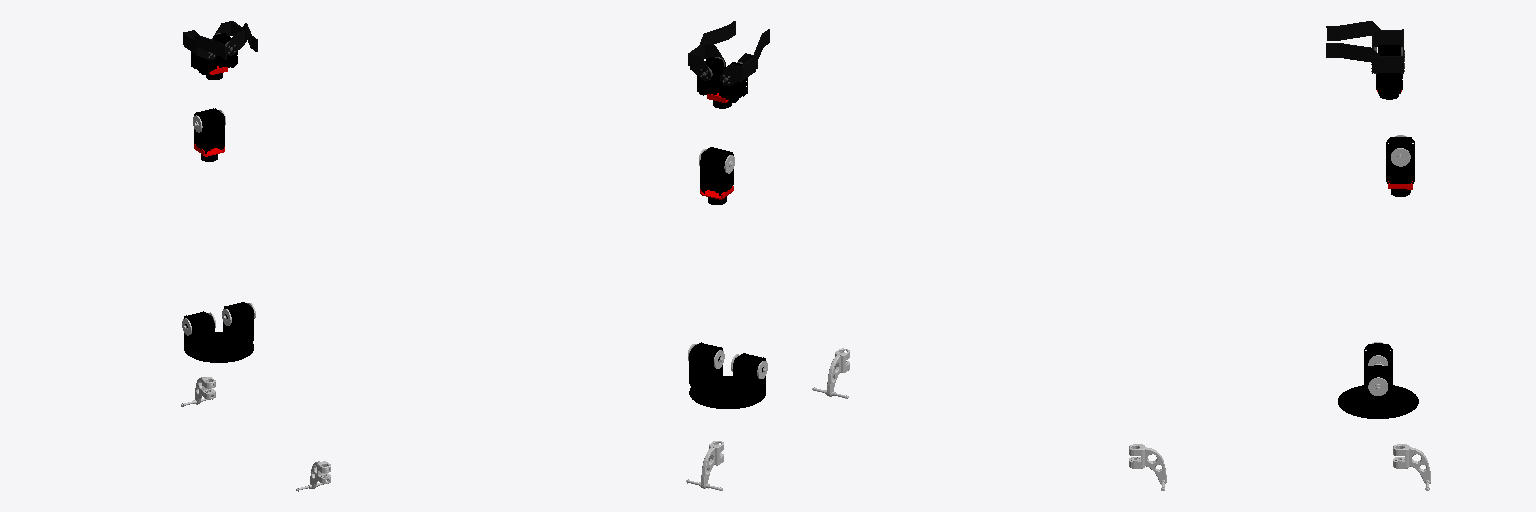
URDF robot description (armstrong):
<?xml version="1.0" encoding="utf-8"?>
<!-- =================================================================================== -->
<!-- |    This document was autogenerated by xacro from armstrong.urdf.xacro           | -->
<!-- |    EDITING THIS FILE BY HAND IS NOT RECOMMENDED                                 | -->
<!-- =================================================================================== -->
<robot name="armstrong">
  <!-- ================ CONSTANTS ================ -->
  <!-- ================ MACROS ================ -->
  <!-- ================ GAZEBO SETTINGS  ================ -->
  <!-- Support for multiple controllers -->
  <gazebo>
    <plugin filename="libgazebo_ros_control.so" name="gazebo_ros_control">
      <robotNamespace>/</robotNamespace>
    </plugin>
  </gazebo>
  <gazebo reference="base_link">
    <turnGravityOff>false</turnGravityOff>
  </gazebo>
  <gazebo reference="frame">
    <turnGravityOff>false</turnGravityOff>
    <selfCollide>0</selfCollide>
  </gazebo>
  <gazebo reference="l_wheel">
    <selfCollide>false</selfCollide>
    <mu1 value="0.5"/> <!-- 0.5 -->
    <mu2 value="0.5"/> <!-- 0.5 -->
    <kp value="10000000"/>
    <kd value="1"/>
    <fdir1 value="1 0 0"/>
    <turnGravityOff>false</turnGravityOff>
    <selfCollide>0</selfCollide>
  </gazebo>
  <gazebo reference="r_wheel">
    <selfCollide>false</selfCollide>
    <mu1 value="0.5"/> <!-- 0.5 -->
    <mu2 value="0.5"/> <!-- 0.5 -->
    <kp value="10000000"/>
    <kd value="1"/>
    <fdir1 value="1 0 0"/>
    <turnGravityOff>false</turnGravityOff>
    <selfCollide>0</selfCollide>
  </gazebo>
  <gazebo reference="f_caster_arm">
    <turnGravityOff>false</turnGravityOff>
    <selfCollide>0</selfCollide>
    <implicitSpringDamper>True</implicitSpringDamper>
  </gazebo>
  <gazebo reference="r_caster_wheel">
    <turnGravityOff>false</turnGravityOff>
    <selfCollide>0</selfCollide>
    <implicitSpringDamper>True</implicitSpringDamper>
     --&gt;
  
  </gazebo>
  <gazebo reference="b_caster_wheel">
    <turnGravityOff>false</turnGravityOff>
    <selfCollide>0</selfCollide>
    <implicitSpringDamper>True</implicitSpringDamper>
     --&gt;
  
  </gazebo>
  <gazebo reference="b_caster_arm">
    <turnGravityOff>false</turnGravityOff>
    <selfCollide>0</selfCollide>
    <implicitSpringDamper>True</implicitSpringDamper>
     --&gt;
  
  </gazebo>
  <gazebo reference="link_1">
    <turnGravityOff>false</turnGravityOff>
    <selfCollide>False</selfCollide>
    <implicitSpringDamper>True</implicitSpringDamper>
  </gazebo>
  <gazebo reference="link_2">
    <turnGravityOff>false</turnGravityOff>
    <selfCollide>False</selfCollide>
    <implicitSpringDamper>True</implicitSpringDamper>
  </gazebo>
  <gazebo reference="link_3">
    <turnGravityOff>false</turnGravityOff>
    <selfCollide>False</selfCollide>
    <implicitSpringDamper>True</implicitSpringDamper>
  </gazebo>
  <gazebo reference="link_4">
    <turnGravityOff>false</turnGravityOff>
    <selfCollide>False</selfCollide>
    <implicitSpringDamper>True</implicitSpringDamper>
  </gazebo>
  <gazebo reference="link_5">
    <turnGravityOff>false</turnGravityOff>
    <selfCollide>False</selfCollide>
    <implicitSpringDamper>True</implicitSpringDamper>
  </gazebo>
  <gazebo reference="link_6">
    <turnGravityOff>false</turnGravityOff>
    <selfCollide>False</selfCollide>
    <implicitSpringDamper>True</implicitSpringDamper>
  </gazebo>
  <gazebo reference="r_finger">
    <turnGravityOff>false</turnGravityOff>
    <selfCollide>False</selfCollide>
    <implicitSpringDamper>True</implicitSpringDamper>
  </gazebo>
  <!-- ================ BASE LINK - DUMMY ================ -->
  <link name="base_link"/>
  <!-- ================ FRAME LINK ================ -->
  <link name="frame">
    <visual>
      <geometry>
        <mesh filename="package://armstrong_description/meshes/frame.dae"/>
      </geometry>
    </visual>
    <collision>
      <origin rpy="0 0 0" xyz="0 0 0"/>
      <geometry>
        <mesh filename="package://armstrong_description/meshes/frame.dae"/>
      </geometry>
    </collision>
    <inertial>
      <origin rpy="0 0 0" xyz="0 0 0"/>
      <mass value="9.748"/>
      <inertia ixx="0.0001" ixy="0.000" ixz="0.000" iyy="0.0001" iyz="0.000" izz="0.0001"/>
    </inertial>
  </link>
  <!-- ================ LEFT WHEEL LINK ================ -->
  <link name="l_wheel">
    <visual>
      <geometry>
        <mesh filename="package://armstrong_description/meshes/l_wheel.dae"/>
      </geometry>
    </visual>
    <collision>
      <origin rpy="0 1.570796 0" xyz="0 0 0"/>
      <geometry>
        <cylinder length="0.027844" radius="0.076875"/>
      </geometry>
    </collision>
    <inertial>
      <origin rpy="0 1.570796 0" xyz="0 0 0"/>
      <mass value="0.635"/>
      <inertia ixx="0.0001" ixy="0.000" ixz="0.000" iyy="0.0001" iyz="0.000" izz="0.0001"/>
    </inertial>
  </link>
  <!-- ================ RIGHT WHEEL LINK ================ -->
  <link name="r_wheel">
    <visual>
      <geometry>
        <mesh filename="package://armstrong_description/meshes/r_wheel.dae"/>
      </geometry>
    </visual>
    <collision>
      <origin rpy="0 1.570796 0" xyz="0 0 0"/>
      <geometry>
        <cylinder length="0.027844" radius="0.076875"/>
      </geometry>
    </collision>
    <inertial>
      <origin rpy="0 1.570796 0" xyz="0 0 0"/>
      <mass value="0.635"/>
      <inertia ixx="0.0001" ixy="0.000" ixz="0.000" iyy="0.0001" iyz="0.000" izz="0.0001"/>
    </inertial>
  </link>
  <!-- ================ FRONT CASTER ARM LINK ================ -->
  <link name="f_caster_arm">
    <visual>
      <geometry>
        <mesh filename="package://armstrong_description/meshes/caster_arm.dae"/>
      </geometry>
    </visual>
    <collision>
      <origin rpy="0 0 0" xyz="0 0 0"/>
      <geometry>
        <mesh filename="package://armstrong_description/meshes/caster_arm.dae"/>
      </geometry>
    </collision>
    <inertial>
      <origin rpy="0 0 0" xyz="0 0 0"/>
      <mass value="0.048"/>
      <inertia ixx="0.0001" ixy="0.000" ixz="0.000" iyy="0.0001" iyz="0.000" izz="0.0001"/>
    </inertial>
  </link>
  <!-- ================ FRONT CASTER WHEELS LINK ================ -->
  <link name="f_caster_wheels">
    <visual>
      <geometry>
        <mesh filename="package://armstrong_description/meshes/caster_wheels.dae"/>
      </geometry>
    </visual>
    <collision>
      <origin rpy="0 0 0" xyz="0 0 0"/>
      <geometry>
        <mesh filename="package://armstrong_description/meshes/caster_wheels.dae"/>
      </geometry>
    </collision>
    <inertial>
      <origin rpy="0 0 0" xyz="0 0 0"/>
      <mass value="0.1516"/>
      <inertia ixx="0.0001" ixy="0.000" ixz="0.000" iyy="0.0001" iyz="0.000" izz="0.0001"/>
    </inertial>
  </link>
  <!-- ================ BACK CASTER ARM LINK ================ -->
  <link name="b_caster_arm">
    <visual>
      <geometry>
        <mesh filename="package://armstrong_description/meshes/caster_arm.dae"/>
      </geometry>
    </visual>
    <collision>
      <origin rpy="0 0 0" xyz="0 0 0"/>
      <geometry>
        <mesh filename="package://armstrong_description/meshes/caster_arm.dae"/>
      </geometry>
    </collision>
    <inertial>
      <origin rpy="0 0 0" xyz="0 0 0"/>
      <mass value="0.048"/>
      <inertia ixx="0.0001" ixy="0.000" ixz="0.000" iyy="0.0001" iyz="0.000" izz="0.0001"/>
    </inertial>
  </link>
  <!-- ================ BACK CASTER WHEELS LINK ================ -->
  <link name="b_caster_wheels">
    <visual>
      <geometry>
        <mesh filename="package://armstrong_description/meshes/caster_wheels.dae"/>
      </geometry>
    </visual>
    <collision>
      <origin rpy="0 0 0" xyz="0 0 0"/>
      <geometry>
        <mesh filename="package://armstrong_description/meshes/caster_wheels.dae"/>
      </geometry>
    </collision>
    <inertial>
      <origin rpy="0 0 0" xyz="0 0 0"/>
      <mass value="0.1516"/>
      <inertia ixx="0.0001" ixy="0.000" ixz="0.000" iyy="0.0001" iyz="0.000" izz="0.0001"/>
    </inertial>
  </link>
  <!-- ================ LINK1 LINK ================ -->
  <link name="link_1">
    <visual>
      <geometry>
        <mesh filename="package://armstrong_description/meshes/link_1.dae"/>
      </geometry>
    </visual>
    <collision>
      <origin rpy="0 0 0" xyz="0 0 0"/>
      <geometry>
        <mesh filename="package://armstrong_description/meshes/link_1.dae"/>
      </geometry>
    </collision>
    <inertial>
      <origin rpy="0 0 0" xyz="0 0 0"/>
      <mass value="0.266262084814045"/>
      <inertia ixx="0.0001" ixy="0.000" ixz="0.000" iyy="0.0001" iyz="0.000" izz="0.0001"/>
    </inertial>
  </link>
  <!-- ================ LINK2 LINK ================ -->
  <link name="link_2">
    <visual>
      <geometry>
        <mesh filename="package://armstrong_description/meshes/link_2.dae"/>
      </geometry>
    </visual>
    <collision>
      <origin rpy="0 0 0" xyz="0 0 0"/>
      <geometry>
        <mesh filename="package://armstrong_description/meshes/link_2.dae"/>
      </geometry>
    </collision>
    <inertial>
      <origin rpy="0 0 0" xyz="0 0 0"/>
      <mass value="0.20557"/>
      <inertia ixx="0.0001" ixy="0.000" ixz="0.000" iyy="0.0001" iyz="0.000" izz="0.0001"/>
    </inertial>
  </link>
  <!-- ================ LINK3 LINK ================ -->
  <link name="link_3">
    <visual>
      <geometry>
        <mesh filename="package://armstrong_description/meshes/link_3.dae"/>
      </geometry>
    </visual>
    <collision>
      <origin rpy="0 0 0" xyz="0 0 0"/>
      <geometry>
        <mesh filename="package://armstrong_description/meshes/link_3.dae"/>
      </geometry>
    </collision>
    <inertial>
      <origin rpy="0 0 0" xyz="0 0 0"/>
      <mass value="0.145524"/>
      <inertia ixx="0.0001" ixy="0.000" ixz="0.000" iyy="0.0001" iyz="0.000" izz="0.0001"/>
    </inertial>
  </link>
  <!-- ================ LINK4 LINK ================ -->
  <link name="link_4">
    <visual>
      <geometry>
        <mesh filename="package://armstrong_description/meshes/link_4.dae"/>
      </geometry>
    </visual>
    <collision>
      <origin rpy="0 0 0" xyz="0 0 0"/>
      <geometry>
        <mesh filename="package://armstrong_description/meshes/link_4.dae"/>
      </geometry>
    </collision>
    <inertial>
      <origin rpy="0 0 0" xyz="0 0 0"/>
      <mass value="0.1"/>
      <inertia ixx="0.0001" ixy="0.000" ixz="0.000" iyy="0.0001" iyz="0.000" izz="0.0001"/>
    </inertial>
  </link>
  <!-- ================ LINK5 LINK ================ -->
  <link name="link_5">
    <visual>
      <geometry>
        <mesh filename="package://armstrong_description/meshes/link_5.dae"/>
      </geometry>
    </visual>
    <collision>
      <origin rpy="0 0 0" xyz="0 0 0"/>
      <geometry>
        <mesh filename="package://armstrong_description/meshes/link_5.dae"/>
      </geometry>
    </collision>
    <inertial>
      <origin rpy="0 0 0" xyz="0 0 0"/>
      <mass value="0.092731"/>
      <inertia ixx="0.0001" ixy="0.000" ixz="0.000" iyy="0.0001" iyz="0.000" izz="0.0001"/>
    </inertial>
  </link>
  <!-- ================ LINK6 LINK ================ -->
  <link name="link_6">
    <visual>
      <geometry>
        <mesh filename="package://armstrong_description/meshes/link_6.dae"/>
      </geometry>
    </visual>
    <collision>
      <origin rpy="0 0 0" xyz="0 0 0"/>
      <geometry>
        <mesh filename="package://armstrong_description/meshes/link_6.dae"/>
      </geometry>
    </collision>
    <inertial>
      <origin rpy="0 0 0" xyz="0 0 0"/>
      <mass value="0.12368"/>
      <inertia ixx="0.0001" ixy="0.000" ixz="0.000" iyy="0.0001" iyz="0.000" izz="0.0001"/>
    </inertial>
  </link>
  <!-- ================ R_FINGER LINK ================ -->
  <link name="r_finger">
    <visual>
      <geometry>
        <mesh filename="package://armstrong_description/meshes/r_finger.dae"/>
      </geometry>
    </visual>
    <collision>
      <origin rpy="0 0 0" xyz="0 0 0"/>
      <geometry>
        <mesh filename="package://armstrong_description/meshes/r_finger.dae"/>
      </geometry>
    </collision>
    <inertial>
      <origin rpy="0 0 0" xyz="0 0 0"/>
      <mass value="0.027053"/>
      <inertia ixx="0.0001" ixy="0.000" ixz="0.000" iyy="0.0001" iyz="0.000" izz="0.0001"/>
    </inertial>
  </link>
  <!-- ================ L_FINGER LINK ================ -->
  <link name="l_finger">
    <visual>
      <geometry>
        <mesh filename="package://armstrong_description/meshes/l_finger.dae"/>
      </geometry>
    </visual>
    <collision>
      <origin rpy="0 0 0" xyz="0 0 0"/>
      <geometry>
        <mesh filename="package://armstrong_description/meshes/l_finger.dae"/>
      </geometry>
    </collision>
    <inertial>
      <origin rpy="0 0 0" xyz="0 0 0"/>
      <mass value="0.027053"/>
      <inertia ixx="0.0001" ixy="0.000" ixz="0.000" iyy="0.0001" iyz="0.000" izz="0.0001"/>
    </inertial>
  </link>
  <!-- ================ END EFFECTOR SPHERE LINK ================ -->
  <link name="end_effector">
    <visual>
      <geometry>
        <sphere radius="0.0001"/>
      </geometry>
    </visual>
    <inertial>
      <origin rpy="0 0 0" xyz="0 0 0"/>
      <mass value="0"/>
      <inertia ixx="0.0001" ixy="0.000" ixz="0.000" iyy="0.0001" iyz="0.000" izz="0.0001"/>
    </inertial>
  </link>
  <!-- ================ FRAME JOINT ================ -->
  <joint name="joint_base_link" type="fixed">
    <parent link="base_link"/>
    <child link="frame"/>
    <origin rpy="0 0 0" xyz="0 0 0"/>
  </joint>
  <!-- ================ LEFT WHEEL JOINT ================ -->
  <joint name="joint_l_wheel" type="continuous">
    <parent link="frame"/>
    <child link="l_wheel"/>
    <origin rpy="0 0 -3.141593"  xyz="-0.18729 0 0"/>
    <axis xyz="1 0 0"/>
  </joint>
  <transmission name="l_wheel_trans">
    <type>transmission_interface/SimpleTransmission</type>
    <joint name="joint_l_wheel">
      <hardwareInterface>hardware_interface/VelocityJointInterface</hardwareInterface>
    </joint>
    <actuator name="right_wheel_actuator">
      <mechanicalReduction> 1 </mechanicalReduction>
      <hardwareInterface>VelocityJointInterface</hardwareInterface>
    </actuator>
  </transmission>
  <!-- ================ RIGHT WHEEL JOINT ================ -->
  <joint name="joint_r_wheel" type="continuous">
    <parent link="frame"/>
    <child link="r_wheel"/>
    <origin rpy="0 0 -3.141593"  xyz="0.18729 0 0"/>
    <axis xyz="1 0 0"/>
  </joint>
  <transmission name="r_wheel_trans">
    <type>transmission_interface/SimpleTransmission</type>
    <joint name="joint_r_wheel">
      <hardwareInterface>hardware_interface/VelocityJointInterface</hardwareInterface>
    </joint>
    <actuator name="right_wheel_actuator">
      <mechanicalReduction> 1 </mechanicalReduction>
      <hardwareInterface>VelocityJointInterface</hardwareInterface>
    </actuator>
  </transmission>
  <!-- ================ FRONT CASTER ARM JOINT ================ -->
  <joint name="joint_f_caster_arm" type="continuous">
    <parent link="frame"/>
    <child link="f_caster_arm"/>
    <origin xyz="0 -0.18518 0.0168" />
    <axis xyz="0 0 1"/>
  </joint>
  <!-- ================ FRONT CASTER WHEELS JOINT ================ -->
  <joint name="joint_f_caster_wheels" type="continuous">
    <parent link="f_caster_arm"/>
    <child link="f_caster_wheels"/>
    <origin xyz="0 0.0387 -0.0525" />
    <axis xyz="1 0 0"/>
  </joint>
  <!-- ================ BACK CASTER ARM JOINT ================ -->
  <joint name="joint_b_caster_arm" type="continuous">
    <parent link="frame"/>
    <child link="b_caster_arm"/>
    <origin xyz="0 0.18518 0.0168" />
    <axis xyz="0 0 1"/>
  </joint>
  <!-- ================ BACK CASTER WHEELS JOINT ================ -->
  <joint name="joint_b_caster_wheels" type="continuous">
    <parent link="b_caster_arm"/>
    <child link="b_caster_wheels"/>
    <origin xyz="0 0.0387 -0.0525" />
    <axis xyz="1 0 0"/>
  </joint>
  <!-- ================ LINK1 JOINT ================ -->
  <joint name="joint_1" type="revolute">
    <parent link="frame"/>
    <child link="link_1"/>
    <origin rpy="0 0 0" xyz="0 0.15508 0.076053"/>
    <axis xyz="0 0 1"/>
    <limit effort="24" lower="-1.5708" upper="1.5708" velocity="6.07"/>
  </joint>
  <transmission name="joint_1_transmission">
    <type>transmission_interface/SimpleTransmission</type>
    <joint name="joint_1">
      <hardwareInterface>hardware_interface/PositionJointInterface</hardwareInterface>
    </joint>
    <actuator name="joint_1_actuator">
      <hardwareInterface>hardware_interface/PositionJointInterface</hardwareInterface>
      <mechanicalReduction>1</mechanicalReduction>
    </actuator>
  </transmission>
  <!-- ================ LINK2 JOINT ================ -->
  <joint name="joint_2" type="revolute">
    <parent link="link_1"/>
    <child link="link_2"/>
    <origin rpy="0 0 0" xyz="0 0 0.058757"/>
    <axis xyz="1 0 0"/>
    <limit effort="48" lower="-1.91288086" upper="1.91288086" velocity="6.07"/>
  </joint>
  <transmission name="joint_2_transmission">
    <type>transmission_interface/SimpleTransmission</type>
    <joint name="joint_2">
      <hardwareInterface>hardware_interface/PositionJointInterface</hardwareInterface>
    </joint>
    <actuator name="joint_2_actuator">
      <hardwareInterface>hardware_interface/PositionJointInterface</hardwareInterface>
      <mechanicalReduction>1</mechanicalReduction>
    </actuator>
  </transmission>
  <!-- ================ LINK3 JOINT ================ -->
  <joint name="joint_3" type="revolute">
    <parent link="link_2"/>
    <child link="link_3"/>
    <origin rpy="0 0 0" xyz="0 0.031055 0.189"/>
    <axis xyz="1 0 0"/>
    <limit effort="24" lower="-2.7227136" upper="2.7227136" velocity="6.07"/>
  </joint>
  <transmission name="joint_3_transmission">
    <type>transmission_interface/SimpleTransmission</type>
    <joint name="joint_3">
      <hardwareInterface>hardware_interface/PositionJointInterface</hardwareInterface>
    </joint>
    <actuator name="joint_3_actuator">
      <hardwareInterface>hardware_interface/PositionJointInterface</hardwareInterface>
      <mechanicalReduction>1</mechanicalReduction>
    </actuator>
  </transmission>
  <!-- ================ LINK4 JOINT ================ -->
  <joint name="joint_4" type="revolute">
    <parent link="link_3"/>
    <child link="link_4"/>
    <origin rpy="0 0 0" xyz="0 0 0.0855"/>
    <axis xyz="0 0 1"/>
    <limit effort="24" lower="-3.14159265" upper="3.14159265" velocity="6.07"/>
  </joint>
  <transmission name="joint_4_transmission">
    <type>transmission_interface/SimpleTransmission</type>
    <joint name="joint_4">
      <hardwareInterface>hardware_interface/PositionJointInterface</hardwareInterface>
    </joint>
    <actuator name="joint_4_actuator">
      <hardwareInterface>hardware_interface/PositionJointInterface</hardwareInterface>
      <mechanicalReduction>1</mechanicalReduction>
    </actuator>
  </transmission>
  <!-- ================ LINK5 JOINT ================ -->
  <joint name="joint_5" type="revolute">
    <parent link="link_4"/>
    <child link="link_5"/>
    <origin rpy="0 0 0" xyz="0 0 0.066188"/>
    <axis xyz="1 0 0"/>
    <limit effort="24" lower="-1.91288086" upper="1.91288086" velocity="6.07"/>
  </joint>
  <transmission name="joint_5_transmission">
    <type>transmission_interface/SimpleTransmission</type>
    <joint name="joint_5">
      <hardwareInterface>hardware_interface/PositionJointInterface</hardwareInterface>
    </joint>
    <actuator name="joint_5_actuator">
      <hardwareInterface>hardware_interface/PositionJointInterface</hardwareInterface>
      <mechanicalReduction>1</mechanicalReduction>
    </actuator>
  </transmission>
  <!-- ================ LINK6 JOINT ================ -->
  <joint name="joint_6" type="revolute">
    <parent link="link_5"/>
    <child link="link_6"/>
    <origin rpy="0 0 0" xyz="0 -0.016024 0.08458"/>
    <axis xyz="0 0 1"/>
    <limit effort="10" lower="-2.617993878" upper="2.617993878" velocity="6.07"/>
  </joint>
  <transmission name="joint_6_transmission">
    <type>transmission_interface/SimpleTransmission</type>
    <joint name="joint_6">
      <hardwareInterface>hardware_interface/PositionJointInterface</hardwareInterface>
    </joint>
    <actuator name="joint_6_actuator">
      <hardwareInterface>hardware_interface/PositionJointInterface</hardwareInterface>
      <mechanicalReduction>1</mechanicalReduction>
    </actuator>
  </transmission>
  <!-- ================ R_FINGER JOINT ================ -->
  <joint name="joint_r_finger" type="revolute">
    <parent link="link_6"/>
    <child link="r_finger"/>
    <origin rpy="0 0 0" xyz="0.01853 -0.000527 0.05403"/>
    <axis xyz="0 1 0"/>
    <limit effort="10" lower="-0.40" upper="0" velocity="6.07"/>
  </joint>
  <transmission name="joint_r_finger_transmission">
    <type>transmission_interface/SimpleTransmission</type>
    <joint name="joint_r_finger">
      <hardwareInterface>hardware_interface/PositionJointInterface</hardwareInterface>
    </joint>
    <actuator name="joint_r_finger_actuator">
      <hardwareInterface>hardware_interface/PositionJointInterface</hardwareInterface>
      <mechanicalReduction>1</mechanicalReduction>
    </actuator>
  </transmission>
  <!-- ================ L_FINGER JOINT ================ -->
  <joint name="joint_l_finger" type="revolute">
    <parent link="link_6"/>
    <child link="l_finger"/>
    <origin rpy="0 0 0" xyz="-0.01853 -0.000527 0.05403"/>
    <axis xyz="0 1 0"/>
    <limit effort="10" lower="0" upper="0.40" velocity="6.07"/>
  </joint>
  <transmission name="joint_l_finger_transmission">
    <type>transmission_interface/SimpleTransmission</type>
    <joint name="joint_l_finger">
      <hardwareInterface>hardware_interface/PositionJointInterface</hardwareInterface>
    </joint>
    <actuator name="joint_l_finger_actuator">
      <hardwareInterface>hardware_interface/PositionJointInterface</hardwareInterface>
      <mechanicalReduction>1</mechanicalReduction>
    </actuator>
  </transmission>
  <!-- ================ END EFFECTOR JOINT ================ -->
  <joint name="joint_end_effector" type="fixed">
    <parent link="link_6"/>
    <child link="end_effector"/>
    <origin rpy="0 0 0" xyz="0 -0.077462 0.083028"/>
  </joint>
</robot>

--- Render facts (derived) ---
3 views of the same robot in one strip: view 1: azimuth 30°, elevation 25°; view 2: azimuth 150°, elevation 25°; view 3: azimuth 270°, elevation 25° (orthographic).
Robot: armstrong — 17 links, 16 joints (8 revolute, 6 continuous, 2 fixed); root link base_link; default pose: every joint at zero.
Links seen in each view (by area): view 1: link_1, link_4, link_6, l_finger, r_finger; view 2: link_1, link_4, link_6, r_finger, l_finger, b_caster_arm, f_caster_arm; view 3: link_1, link_4, r_finger, l_finger, link_6, b_caster_arm, f_caster_arm.
Boxes of the visible links, bbox=[...] form: link_1: bbox=[182, 302, 255, 362]; link_4: bbox=[193, 108, 225, 161]; link_6: bbox=[191, 33, 237, 79]; l_finger: bbox=[183, 30, 226, 59]; r_finger: bbox=[215, 21, 257, 55]; link_1: bbox=[688, 342, 767, 408]; link_4: bbox=[699, 147, 734, 204]; link_6: bbox=[697, 57, 747, 108]; r_finger: bbox=[688, 21, 735, 80]; l_finger: bbox=[720, 29, 769, 85]; b_caster_arm: bbox=[686, 441, 723, 490]; f_caster_arm: bbox=[812, 348, 849, 398]; link_1: bbox=[1338, 342, 1418, 418]; link_4: bbox=[1386, 135, 1414, 196]; r_finger: bbox=[1326, 43, 1404, 73]; l_finger: bbox=[1326, 21, 1404, 59]; link_6: bbox=[1374, 45, 1404, 99]; b_caster_arm: bbox=[1393, 444, 1430, 490]; f_caster_arm: bbox=[1129, 444, 1166, 490].
Size in the robot's own frame: 0.1297 by 0.4234 by 0.6956 metres.
Meshes: 13 distinct files referenced, 7 mesh visuals loaded (6 Collada DAE); not drawn: 7 (reference not matched to a file when rendering), 1 (file found but could not be loaded).
